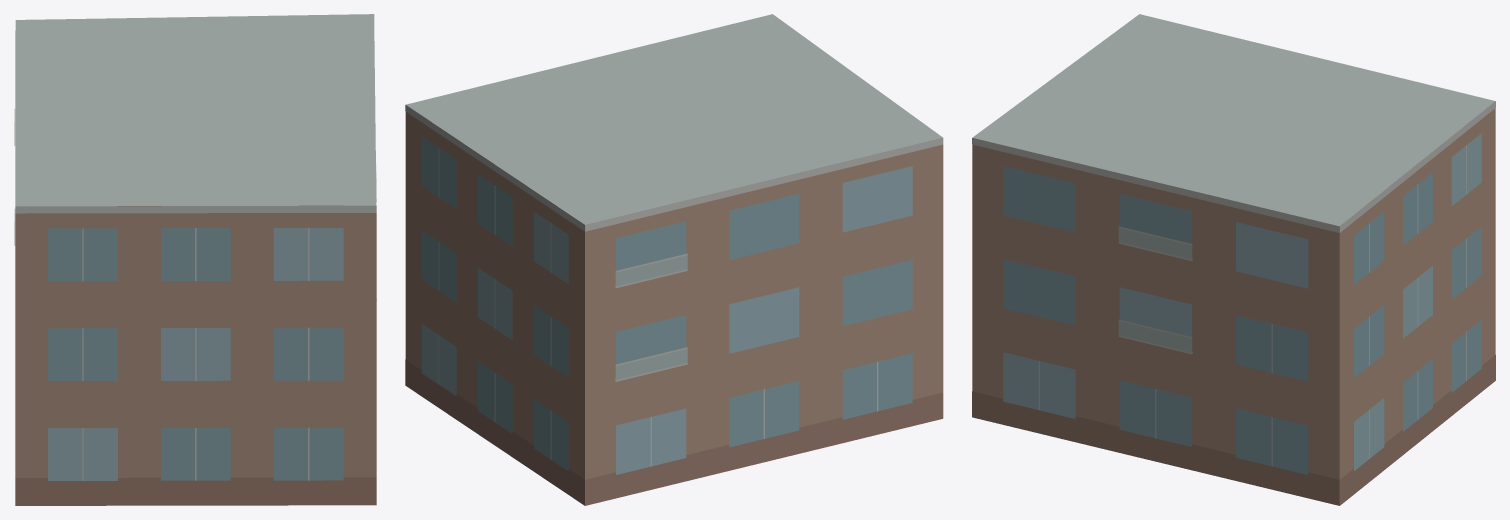
File: survey-upis-32946068.glb
The picture shows the model from 3 angles, left to right: view 1: azimuth 30°, elevation 25°; view 2: azimuth 150°, elevation 25°; view 3: azimuth 270°, elevation 25°; orthographic projection. The views are drawn at different scales.
Parts seen in each view (by area): view 1: survey-upis-32946068.tmp; view 2: survey-upis-32946068.tmp; view 3: survey-upis-32946068.tmp.
Boxes of the visible parts, bbox=[...] form: survey-upis-32946068.tmp: bbox=[14, 14, 376, 505]; survey-upis-32946068.tmp: bbox=[405, 14, 943, 505]; survey-upis-32946068.tmp: bbox=[972, 14, 1495, 505].
Size of the model in its own units: 16.54 by 10.15 by 17.24.
